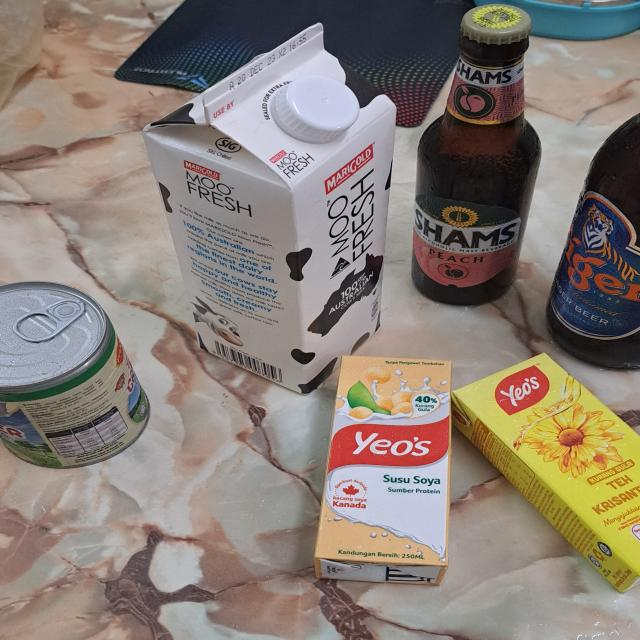can: (0, 280, 151, 470)
drink carton: (140, 20, 396, 396), (454, 351, 640, 595), (316, 354, 454, 587)
glass bottle: (415, 4, 542, 308), (545, 109, 640, 373)
plastic bottle cap: (278, 74, 360, 141)
pop tab: (13, 298, 86, 343)
